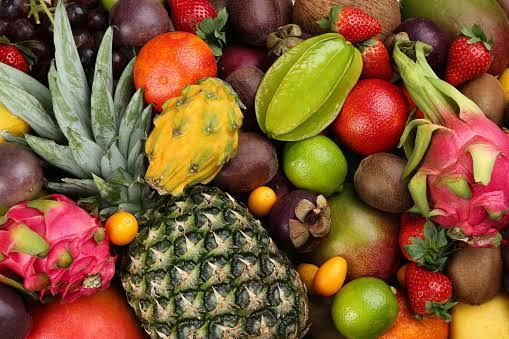thanh_long: (403, 53, 509, 236), (0, 193, 114, 300)
